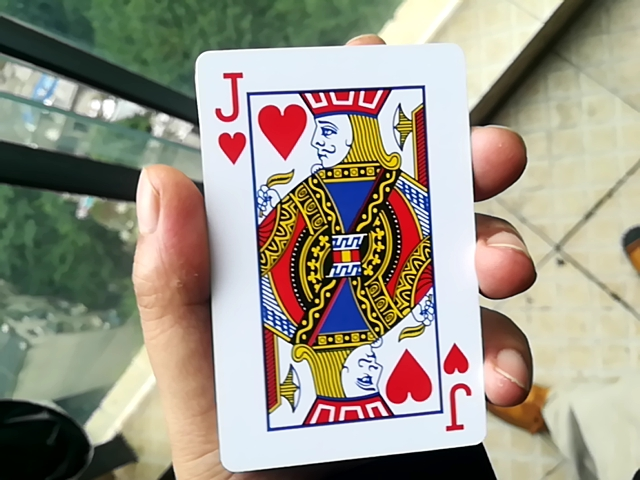hx j: (176, 26, 502, 464)
